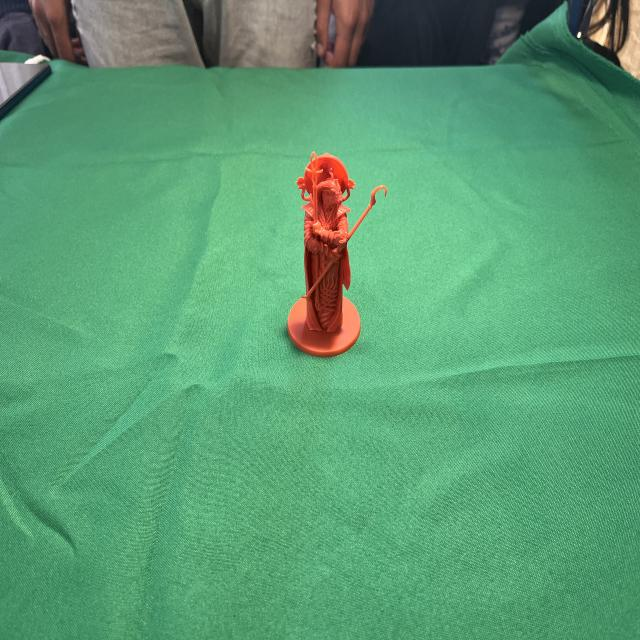amon: (286, 145, 390, 361)
